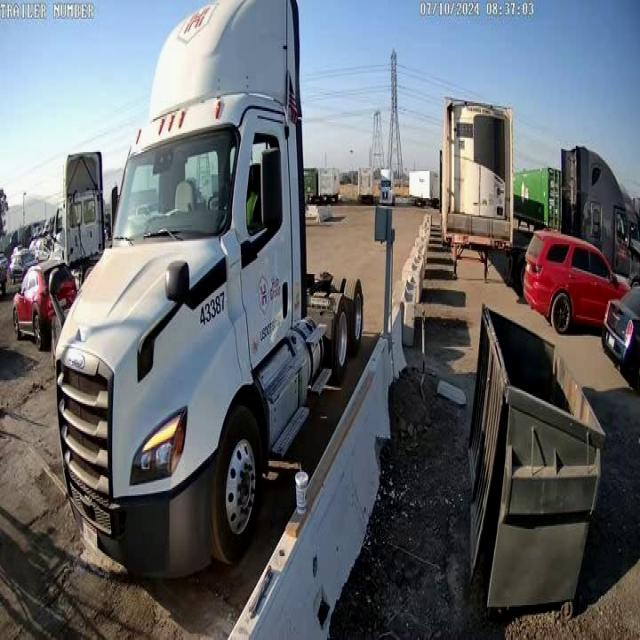BOBTAIL: (48, 0, 365, 580)
